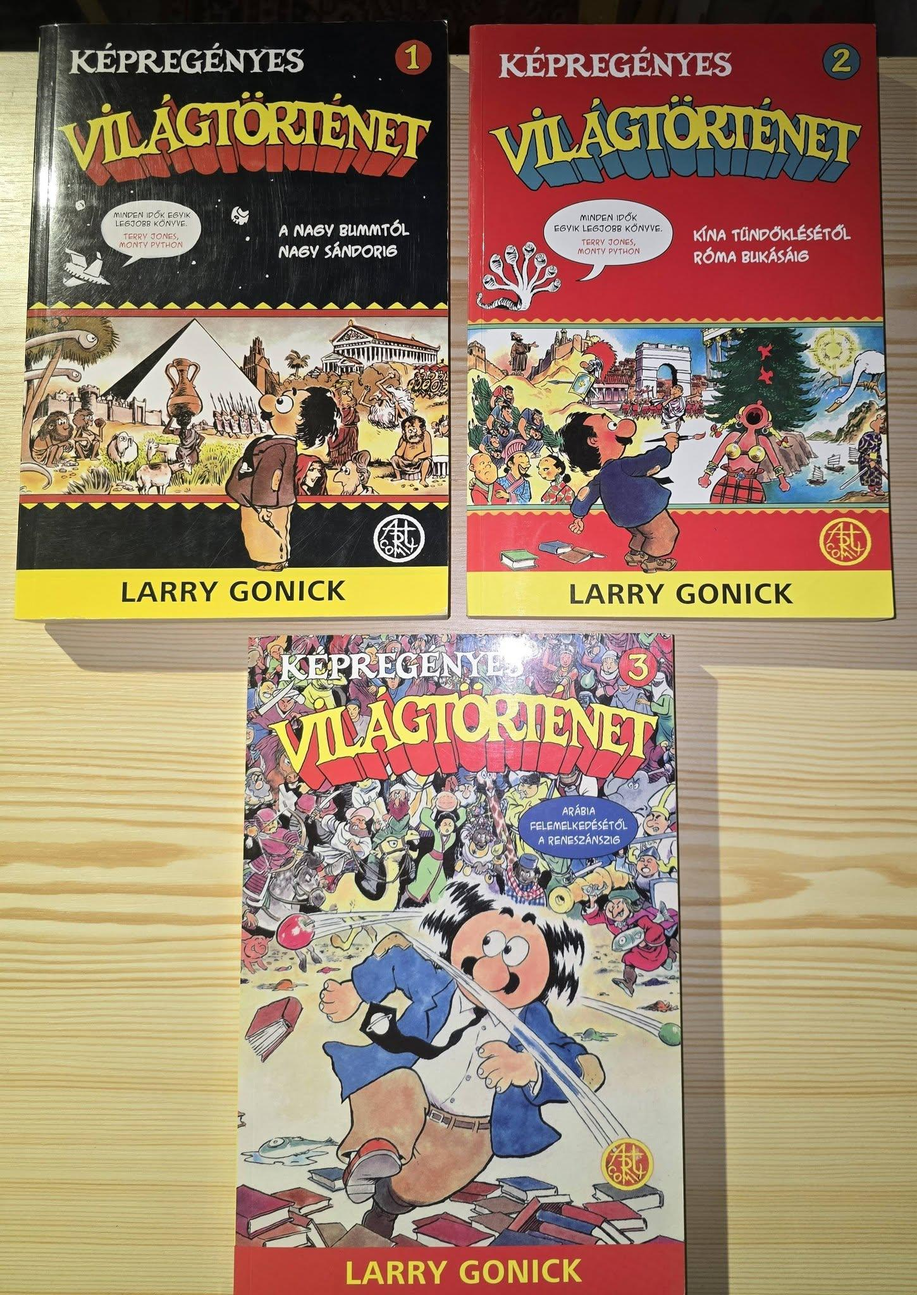comic: (235, 632, 683, 1294), (16, 21, 448, 617), (468, 24, 893, 617)
